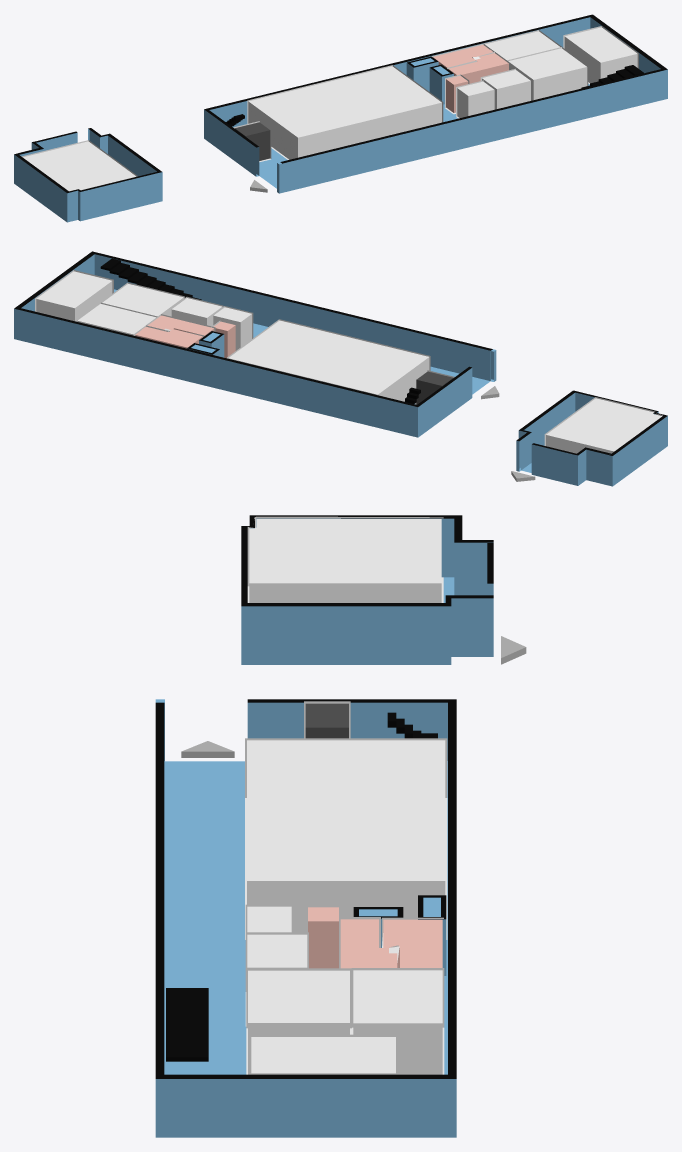
3 renders of one model, top to bottom at view 1: azimuth 30°, elevation 25°; view 2: azimuth 150°, elevation 25°; view 3: azimuth 270°, elevation 25°, orthographic. The views are drawn at different scales.
Visible parts, largest first — view 1: object, room_2_1_1, room_2_1_8, object_line.010, room_2_1_6, room_2_1_5, object_line.009, room_2_1_4, room_2_1_3, room_2_1_7, トイレ_2_1_2, エレベーター_2_1_1 (+4 smaller); view 2: object, room_2_1_1, room_2_1_6, room_2_1_5, object_line.009, room_2_1_8, room_2_1_3, object_line.010, 階段_2_1_1, room_2_1_4, トイレ_2_1_1, room_2_1_7 (+4 smaller); view 3: object, room_2_1_1, room_2_1_6, object_line.010, room_2_1_3, room_2_1_8, room_2_1_5, 階段_2_1_1, トイレ_2_1_1, トイレ_2_1_2, room_2_1_4, トイレ_2_1_3 (+3 smaller).
Part boxes in pixels (<box>): object: <box>14,14,667,222</box>; room_2_1_1: <box>248,66,441,159</box>; room_2_1_8: <box>508,48,587,100</box>; object_line.010: <box>21,140,137,189</box>; room_2_1_6: <box>23,146,134,191</box>; room_2_1_5: <box>565,27,637,78</box>; object_line.009: <box>563,26,638,84</box>; room_2_1_4: <box>482,70,530,109</box>; room_2_1_3: <box>485,31,560,60</box>; room_2_1_7: <box>457,81,494,117</box>; トイレ_2_1_2: <box>448,53,508,83</box>; エレベーター_2_1_1: <box>234,122,270,160</box>; object: <box>14,251,667,486</box>; room_2_1_1: <box>228,320,429,401</box>; room_2_1_6: <box>547,400,661,453</box>; room_2_1_5: <box>36,271,111,320</box>; object_line.009: <box>35,270,113,321</box>; room_2_1_8: <box>102,284,183,316</box>; room_2_1_3: <box>77,303,155,335</box>; object_line.010: <box>544,397,662,452</box>; 階段_2_1_1: <box>100,258,201,299</box>; room_2_1_4: <box>171,298,222,326</box>; トイレ_2_1_1: <box>135,326,202,348</box>; room_2_1_7: <box>213,307,251,349</box>; object: <box>155,515,493,1137</box>; room_2_1_1: <box>247,740,445,932</box>; room_2_1_6: <box>249,519,441,581</box>; object_line.010: <box>247,516,443,602</box>; room_2_1_3: <box>353,970,442,1074</box>; room_2_1_8: <box>248,970,349,1074</box>; room_2_1_5: <box>251,1037,395,1074</box>; 階段_2_1_1: <box>166,988,208,1061</box>; トイレ_2_1_1: <box>383,919,442,967</box>; トイレ_2_1_2: <box>340,919,397,968</box>; room_2_1_4: <box>247,934,307,968</box>; トイレ_2_1_3: <box>308,907,338,968</box>.
Size of the model in its own units: 3.5 by 0.1907 by 0.9721.
